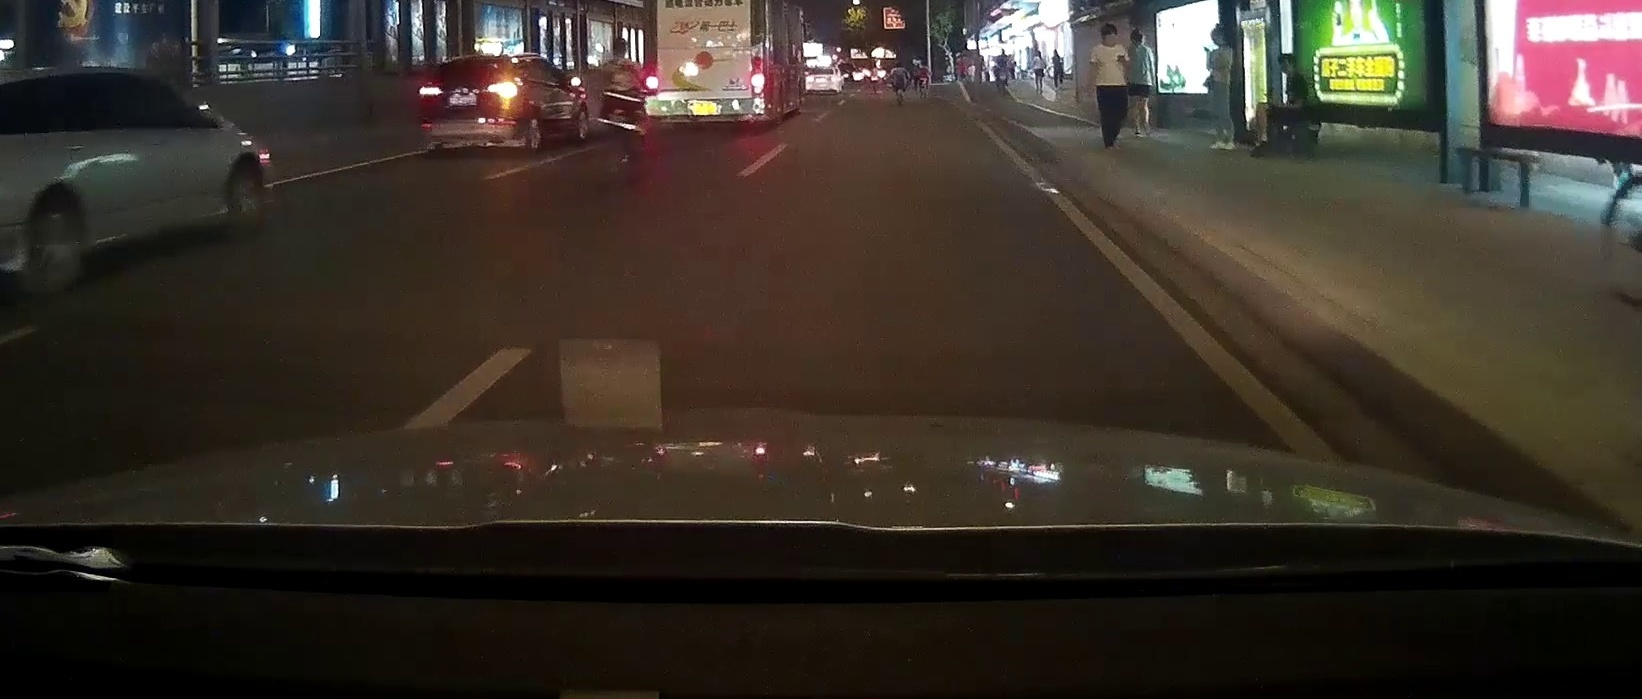L_light: (420, 86, 443, 96)
R_light: (488, 83, 515, 94)
T_light: (467, 60, 483, 64)
night-no: (419, 57, 518, 154)
